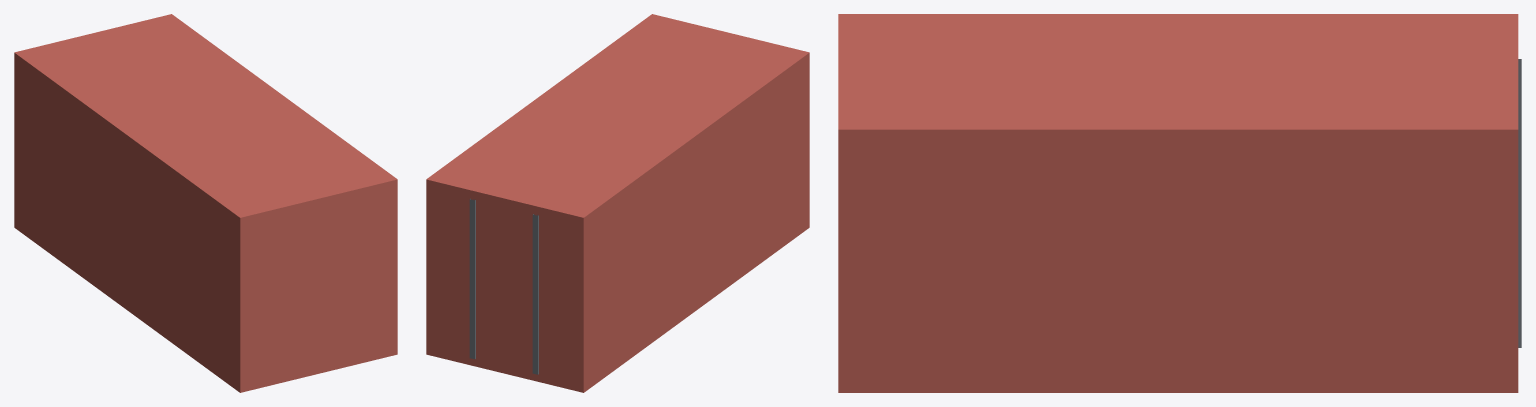
File: port_container1.fbx
3 renders of one model, left to right at view 1: azimuth 30°, elevation 25°; view 2: azimuth 150°, elevation 25°; view 3: azimuth 270°, elevation 25°, orthographic. The views are drawn at different scales.
Visible parts, largest first — view 1: a403_0_port_container1; view 2: a403_0_port_container1; view 3: a403_0_port_container1.
Part boxes in pixels (x1,y1,x2,y2): a403_0_port_container1: (14, 14, 397, 392); a403_0_port_container1: (426, 14, 809, 392); a403_0_port_container1: (838, 14, 1521, 392).
Bounding box in the file's own units: 2.44 × 2.59 × 6.09.
